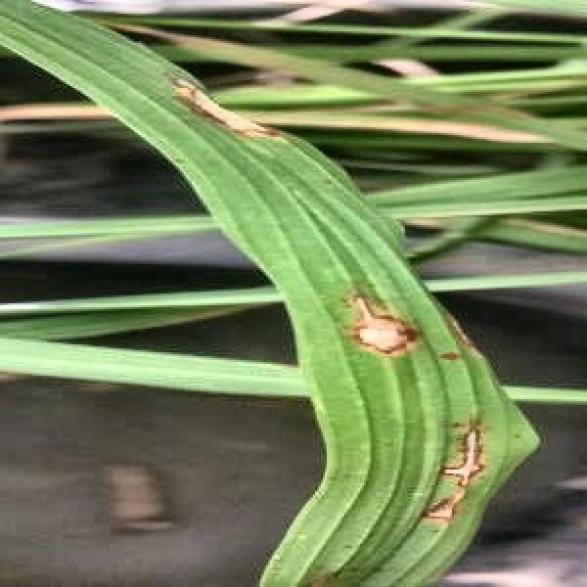Leaf_smut: (339, 284, 489, 534), (155, 60, 292, 151)
